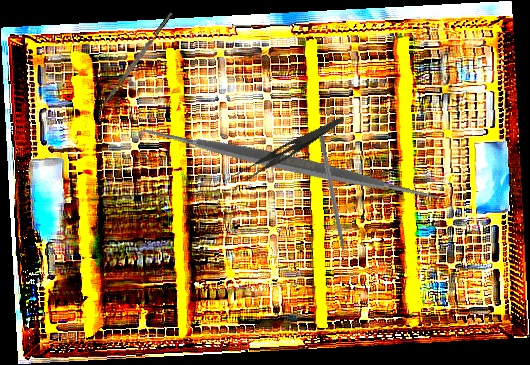Chopper: (92, 11, 178, 122)
Dressing Forceps: (232, 105, 345, 190)
Hook Surgical: (317, 135, 349, 267)
Spatula Surgical: (135, 9, 448, 320)
